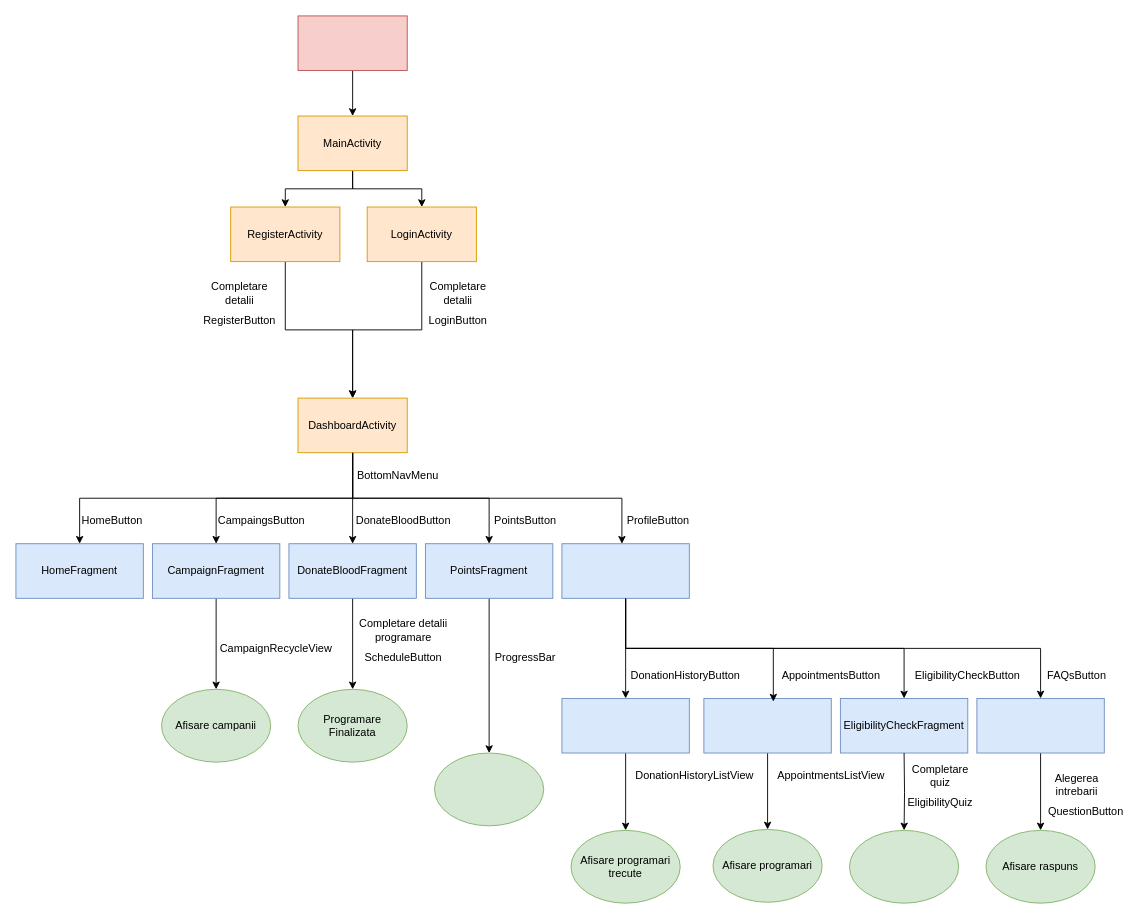
Image size: 1139x919. Some labels were removed from this diagram. The shapes that lost their labels are listed below. From the top down, each one's box as (x1, y1, x2, y2) in pixels, then its label:
(297, 15, 407, 71): LoadingScreen
(561, 543, 689, 598): ProfileFragment
(561, 698, 689, 753): DonationHistoryFragment
(703, 698, 831, 753): AppointmentsFragment
(976, 698, 1104, 753): FaqsFragment
(434, 752, 544, 826): Afisare nr. puncte
(849, 829, 959, 903): Afisare rezultat
